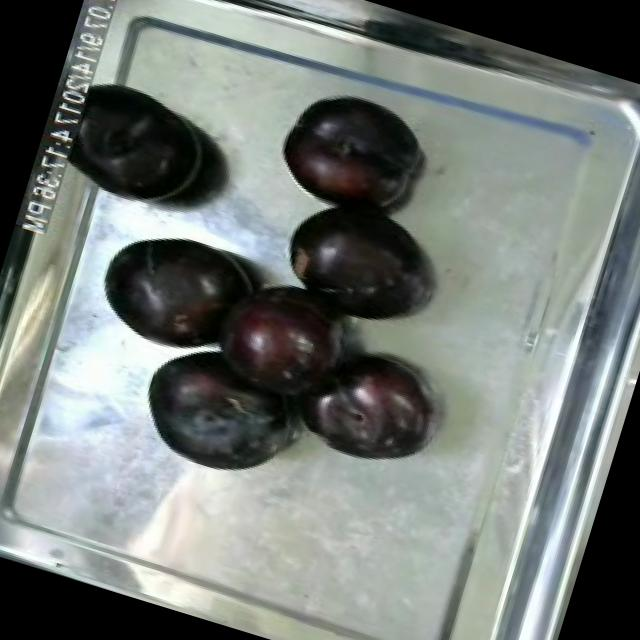Fruit: (122, 328, 316, 496), (82, 208, 266, 372), (192, 260, 366, 420), (53, 67, 226, 224), (269, 177, 442, 334), (268, 74, 438, 228), (296, 333, 450, 479)
